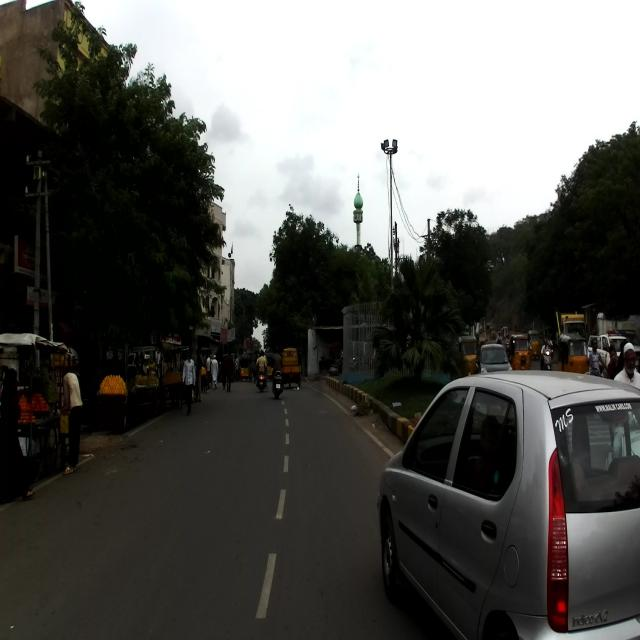Car_TATA: (376, 368, 638, 639)
